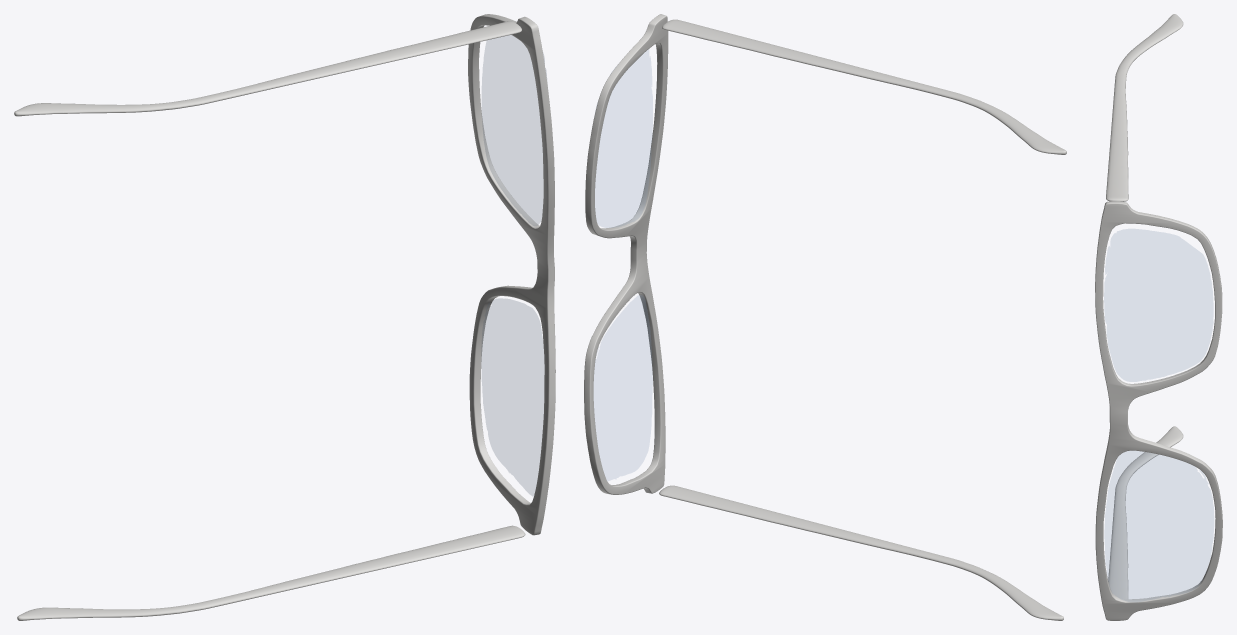
File: model_0_white.glb
3 renders of one model, left to right at view 1: azimuth 30°, elevation 25°; view 2: azimuth 150°, elevation 25°; view 3: azimuth 270°, elevation 25°, orthographic. The views are drawn at different scales.
Visible parts, largest first — view 1: o model_0, Blue_Transparent_Lens_1, Blue_Transparent_Lens_2; view 2: o model_0, Blue_Transparent_Lens_1, Blue_Transparent_Lens_2; view 3: o model_0, Blue_Transparent_Lens_2, Blue_Transparent_Lens_1.
Boxes of the visible parts, box(x1,y1,x2,y2) form: o model_0: box(14, 14, 555, 620); Blue_Transparent_Lens_1: box(481, 298, 544, 496); Blue_Transparent_Lens_2: box(482, 35, 546, 225); o model_0: box(584, 14, 1066, 620); Blue_Transparent_Lens_1: box(594, 295, 652, 480); Blue_Transparent_Lens_2: box(595, 49, 652, 227); o model_0: box(1095, 14, 1222, 620); Blue_Transparent_Lens_2: box(1104, 229, 1213, 381); Blue_Transparent_Lens_1: box(1104, 451, 1213, 601).
Bounding box in the file's own units: 12.74 × 12.44 × 3.46.
